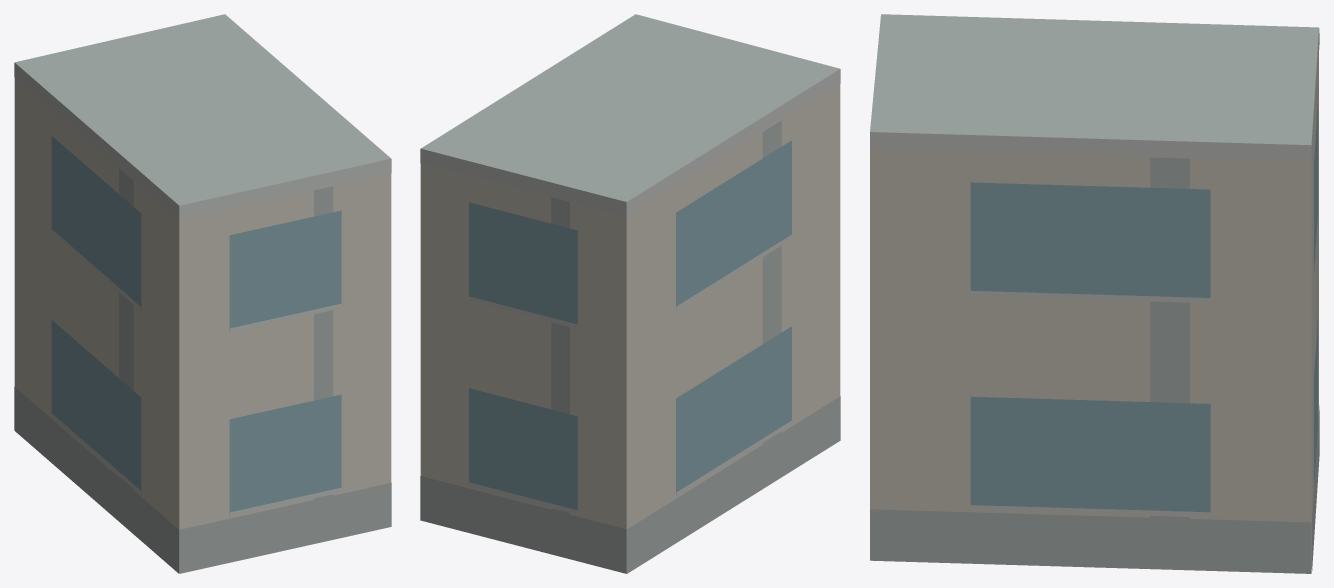
The model's file is survey-upis-32575795.glb.
3 renders of one model, left to right at view 1: azimuth 30°, elevation 25°; view 2: azimuth 150°, elevation 25°; view 3: azimuth 270°, elevation 25°, orthographic. The views are drawn at different scales.
Parts seen in each view (by area): view 1: survey-upis-32575795.tmp; view 2: survey-upis-32575795.tmp; view 3: survey-upis-32575795.tmp.
Part boxes in pixels (bbox=[...]): survey-upis-32575795.tmp: bbox=[14, 14, 391, 573]; survey-upis-32575795.tmp: bbox=[420, 14, 840, 573]; survey-upis-32575795.tmp: bbox=[870, 14, 1319, 573].
Bounding box in the file's own units: 4.01 × 6.1 × 5.81.
